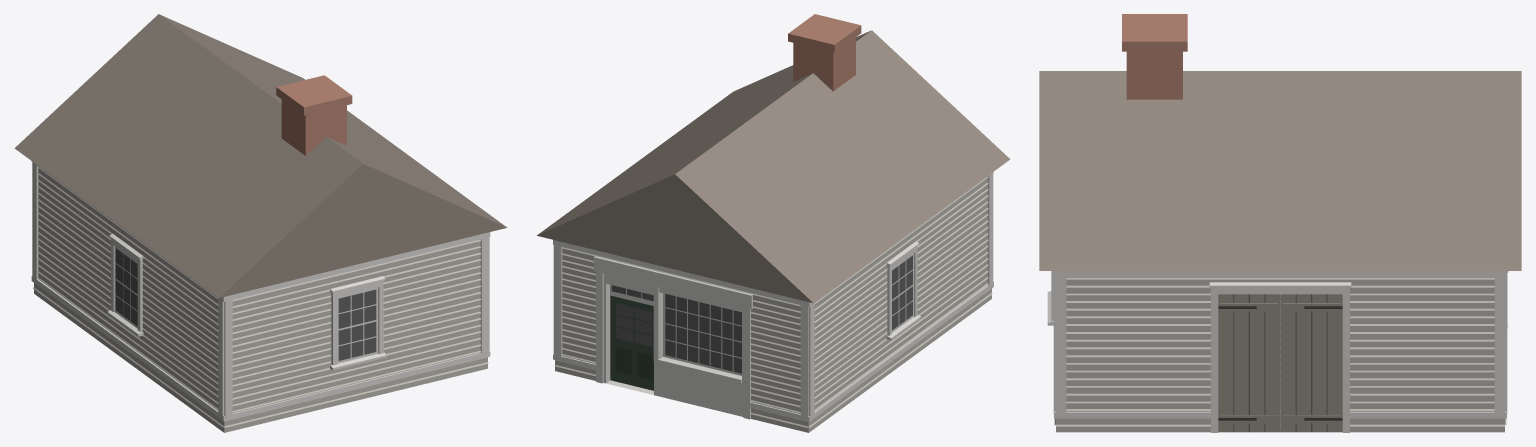
The model's file is recon_1835_core_c1_008__inferred_1835.glb.
The picture shows the model from 3 angles, left to right: view 1: azimuth 30°, elevation 25°; view 2: azimuth 150°, elevation 25°; view 3: azimuth 270°, elevation 25°; orthographic projection. The views are drawn at different scales.
Parts seen in each view (by area): view 1: recon_1835_core_c1_008__inferred_1835; view 2: recon_1835_core_c1_008__inferred_1835; view 3: recon_1835_core_c1_008__inferred_1835.
Boxes of the visible parts, bbox=[...] form: recon_1835_core_c1_008__inferred_1835: bbox=[14, 14, 507, 432]; recon_1835_core_c1_008__inferred_1835: bbox=[537, 14, 1010, 432]; recon_1835_core_c1_008__inferred_1835: bbox=[1039, 14, 1521, 432].
Bounding box in the file's own units: 5.85 × 5.41 × 7.19.
